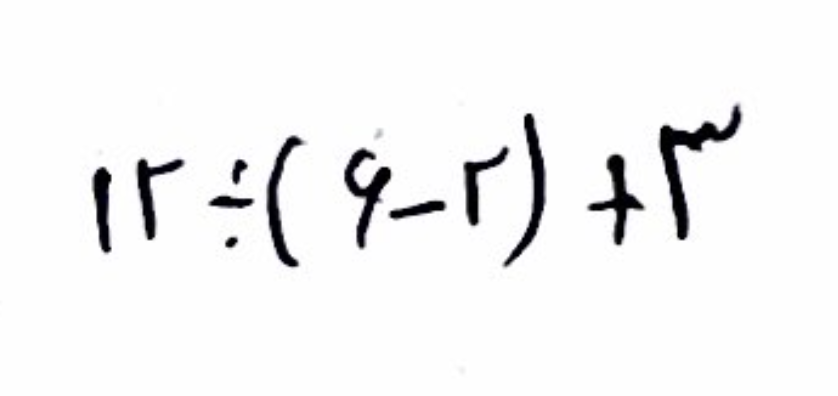character: (658, 100, 744, 243), (503, 110, 546, 268), (584, 154, 649, 246), (265, 135, 307, 268), (341, 145, 392, 250), (205, 157, 253, 251), (133, 155, 185, 241), (460, 142, 511, 229), (89, 163, 121, 251), (386, 198, 447, 220)
